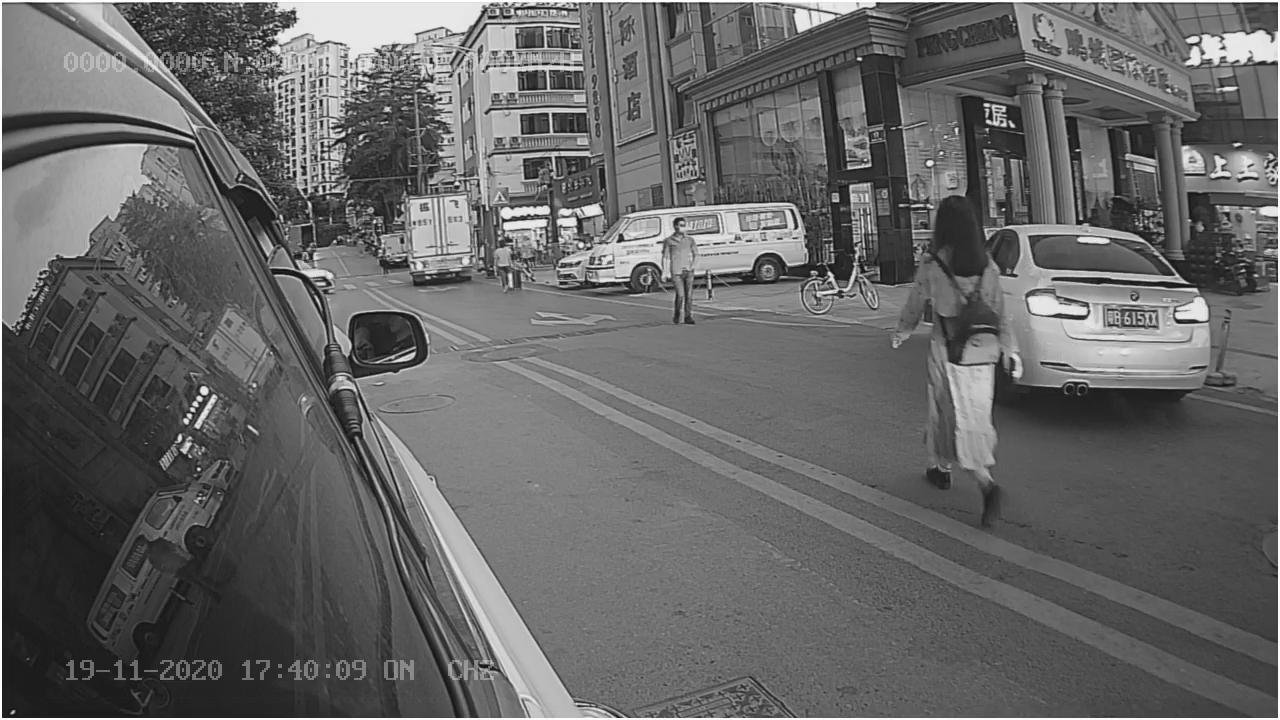person: (883, 197, 1024, 522)
